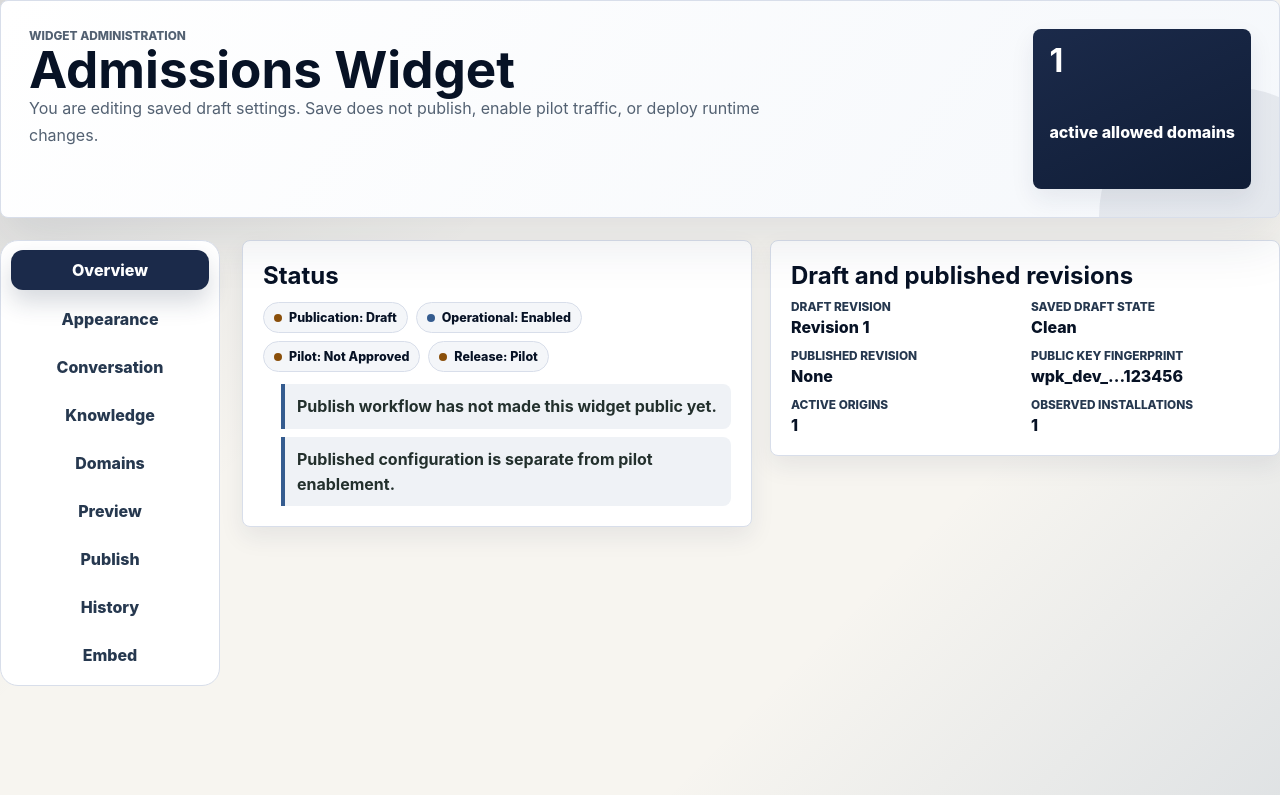
Test: widget administration frontend › shows installation evidence and keeps unsupported SDK versions unavailable
Click the tab "Embed" at x=110, y=655, box [11,635,209,675]
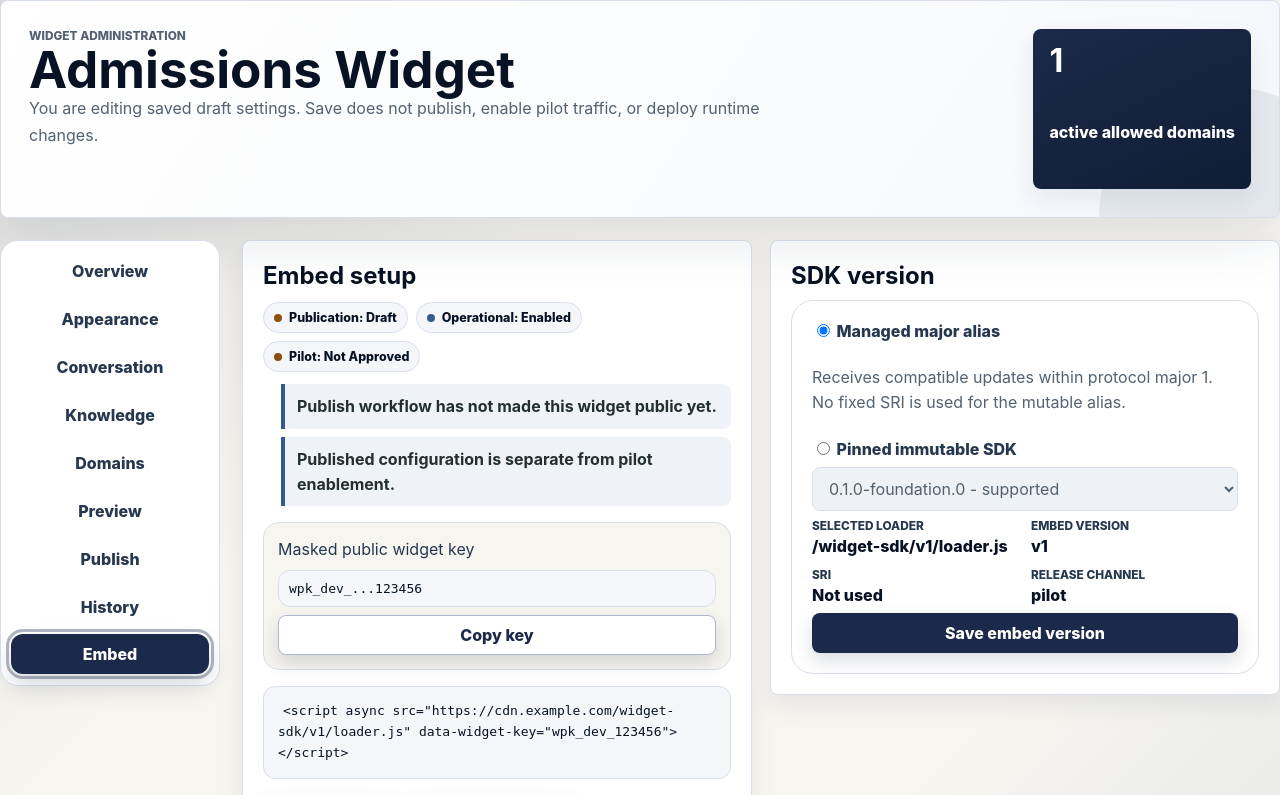
Result: the radio button labelled "Managed major alias" is shown at [817,324,830,337]
Result: the radio button labelled "Pinned immutable SDK" is shown at [817,442,830,455]
